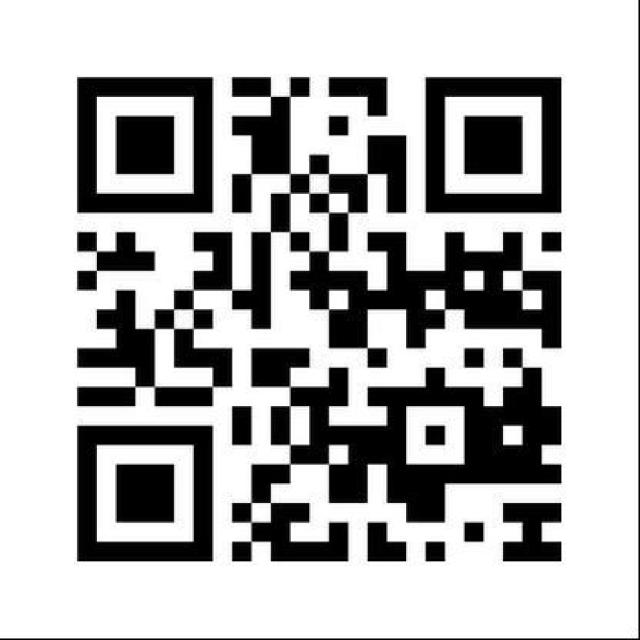QRCode: (65, 66, 578, 573)
